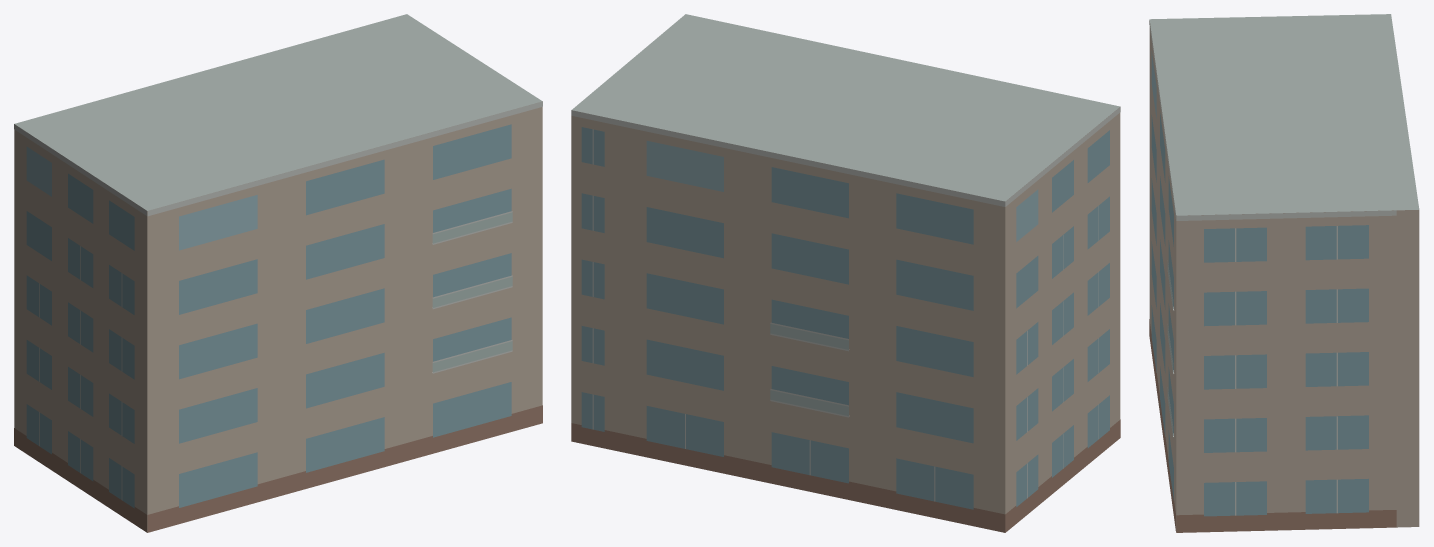
File: survey-upis-32974457.glb
3 views of the same model, side by side, from view 1: azimuth 30°, elevation 25°; view 2: azimuth 150°, elevation 25°; view 3: azimuth 270°, elevation 25° (orthographic). The views are drawn at different scales.
Visible parts, largest first — view 1: survey-upis-32974457.tmp; view 2: survey-upis-32974457.tmp; view 3: survey-upis-32974457.tmp.
Part boxes in pixels (x1,y1,x2,y2): survey-upis-32974457.tmp: (14, 14, 542, 532); survey-upis-32974457.tmp: (571, 14, 1120, 532); survey-upis-32974457.tmp: (1149, 14, 1419, 532).
Bounding box in the file's own units: 19.65 × 14.4 × 11.12.
